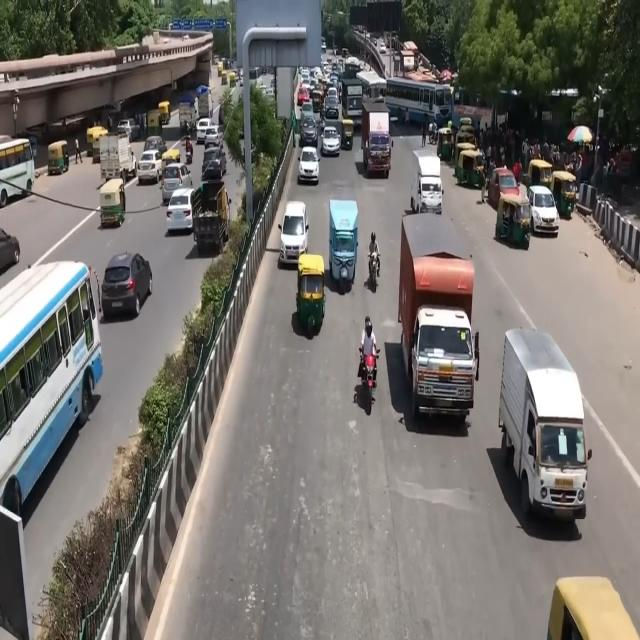auto: (192, 181, 230, 255), (328, 198, 358, 286), (297, 253, 325, 341), (94, 168, 130, 232), (495, 186, 532, 247), (550, 170, 578, 219), (455, 145, 483, 189), (86, 125, 109, 162), (47, 140, 70, 175), (437, 126, 454, 162), (147, 109, 164, 134), (341, 118, 354, 150), (158, 100, 171, 126)
bike-auto: (360, 316, 383, 426), (358, 316, 378, 388), (366, 228, 384, 292), (75, 138, 82, 164)
